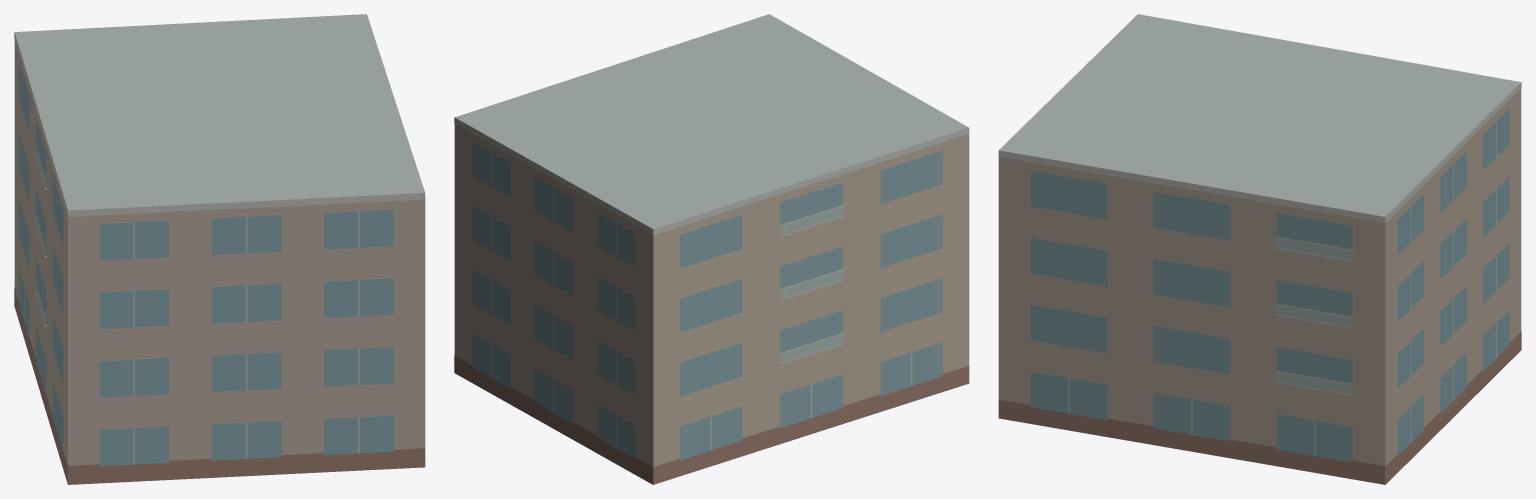
The model's file is survey-upis-32503647.glb.
3 renders of one model, left to right at view 1: azimuth 30°, elevation 25°; view 2: azimuth 150°, elevation 25°; view 3: azimuth 270°, elevation 25°, orthographic. The views are drawn at different scales.
Parts seen in each view (by area): view 1: survey-upis-32503647.tmp; view 2: survey-upis-32503647.tmp; view 3: survey-upis-32503647.tmp.
Boxes of the visible parts, x1,y1,x2,y2 form: survey-upis-32503647.tmp: (14,14,425,484); survey-upis-32503647.tmp: (454,14,969,484); survey-upis-32503647.tmp: (998,14,1521,484).
Bounding box in the file's own units: 16.89 × 10.4 × 18.4.
